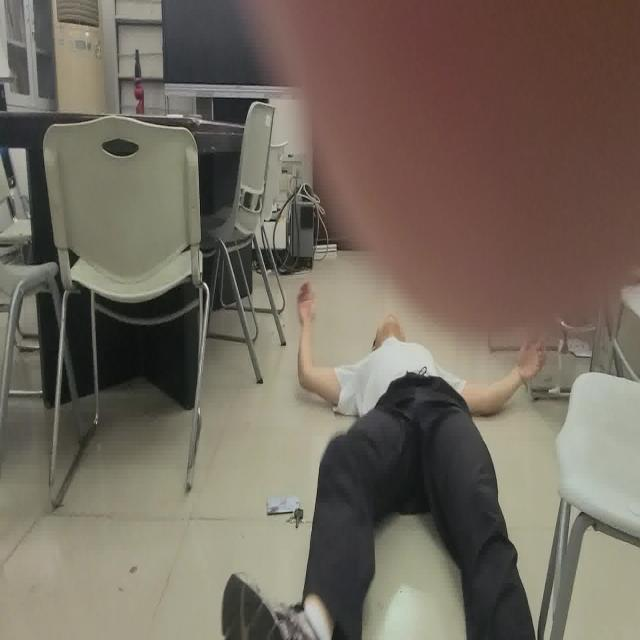Fall-Detected: (220, 282, 548, 640)
